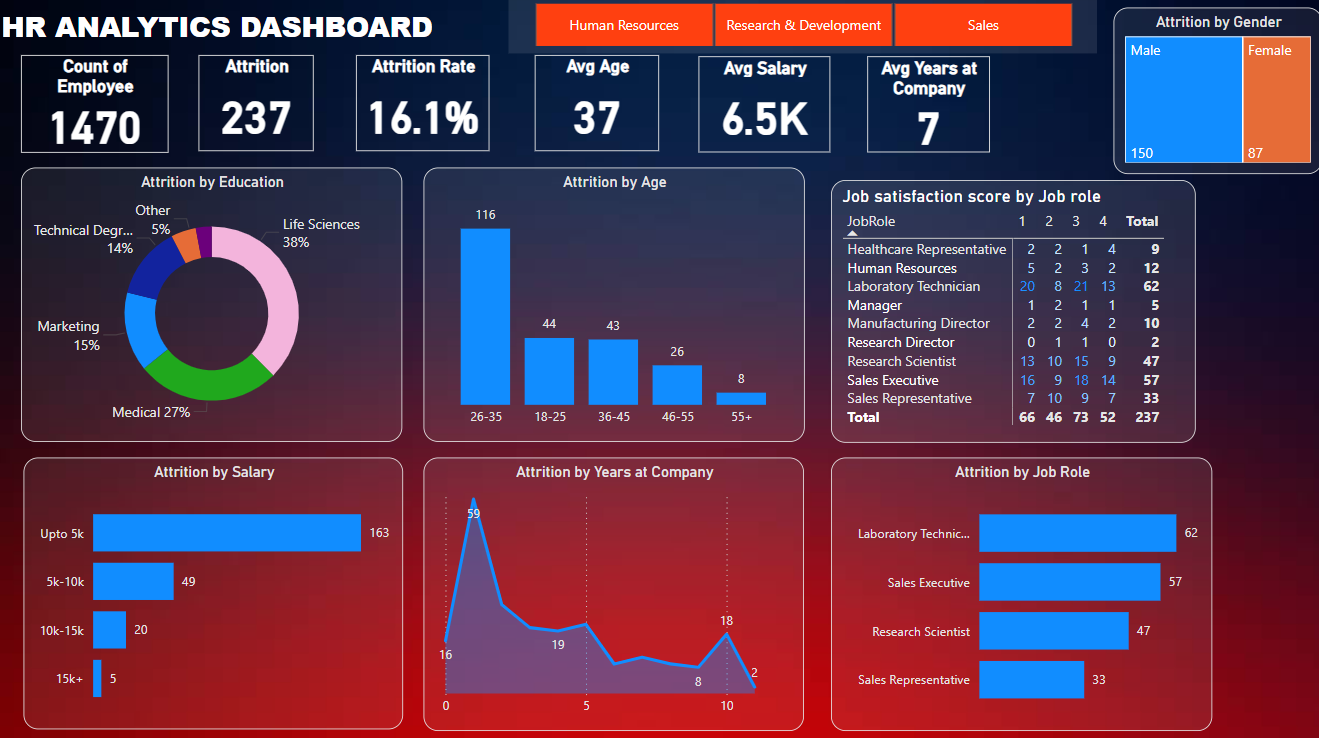

This screenshot's page, from the dashboard's own definition file:
{"tool":"powerbi","page":{"name":"Page 1","canvas":[1280,720],"ordinal":0},"visuals":[{"type":"card","title":"Count of Employee","fields":{"Values":["CountNonNull(HR_Analytics.EmpID)"]},"box":[24.6,58,142,94.2],"z":0},{"type":"card","title":"Attrition","fields":{"Values":["Sum(HR_Analytics.Attrition Count)"]},"box":[195.7,58,111.6,92.8],"z":1000},{"type":"card","title":"Attrition Rate","fields":{"Values":["HR_Analytics.AttritionNRate"]},"box":[347.8,58,129,92.8],"z":2000},{"type":"card","title":"Avg Age","fields":{"Values":["Avg(HR_Analytics.Age)"]},"box":[520.3,58,120.3,92.8],"z":3000},{"type":"card","title":"Avg Years at Company","fields":{"Values":["Avg(HR_Analytics.YearsAtCompany)"]},"box":[840.9,59.1,118.2,92.9],"z":4000},{"type":"card","title":"Avg Salary","fields":{"Values":["Avg(HR_Analytics.MonthlyIncome)"]},"box":[678.3,59.4,127.5,92.8],"z":5000},{"type":"donutChart","title":"Attrition by Education","fields":{"Category":["HR_Analytics.EducationField"],"Y":["Sum(HR_Analytics.Attrition Count)"]},"box":[24.7,166,367.8,264.8],"z":6000},{"type":"columnChart","title":"Attrition by Age","fields":{"Category":["HR_Analytics.AgeGroup"],"Y":["Sum(HR_Analytics.Attrition Count)"]},"box":[413,166,367.8,264.8],"z":7000},{"type":"pivotTable","title":"Job satisfaction score by Job role","fields":{"Rows":["HR_Analytics.JobRole"],"Values":["Sum(HR_Analytics.Attrition Count)"],"Columns":["HR_Analytics.JobSatisfaction"]},"box":[805.8,178.3,352.2,253.6],"z":8000},{"type":"barChart","title":"Attrition by Salary","fields":{"Category":["HR_Analytics.SalarySlab"],"Y":["Sum(HR_Analytics.Attrition Count)"]},"box":[26.1,446.4,366.7,262.3],"z":9000},{"type":"barChart","title":"Attrition by Job Role","fields":{"Category":["HR_Analytics.JobRole"],"Y":["Sum(HR_Analytics.Attrition Count)"]},"box":[805.8,446.4,368.1,263.8],"z":10000},{"type":"areaChart","title":"Attrition by Years at Company","fields":{"Category":["HR_Analytics.YearsAtCompany"],"Y":["Sum(HR_Analytics.Attrition Count)"]},"box":[413,446.8,367.5,263.6],"z":11000},{"type":"treemap","title":"Attrition by Gender","fields":{"Values":["Sum(HR_Analytics.Attrition Count)"],"Group":["HR_Analytics.Gender"]},"box":[1078.3,11.6,201.4,160.9],"z":12000},{"type":"slicer","fields":{"Values":["HR_Analytics.Department"]},"box":[494.2,1.4,568.1,55.1],"z":13000},{"type":"textbox","box":[0,5.8,443.5,47.8],"z":14000}]}

Visuals, with their boxes in screenshot pixels (x1, y1, x2, y2), scaled from the page's 1280x720 canvas onto the 1319x738 screenshot:
"Count of Employee" card: (x1=25, y1=59, x2=172, y2=156)
"Attrition" card: (x1=202, y1=59, x2=317, y2=155)
"Attrition Rate" card: (x1=358, y1=59, x2=491, y2=155)
"Avg Age" card: (x1=536, y1=59, x2=660, y2=155)
"Avg Years at Company" card: (x1=867, y1=61, x2=988, y2=156)
"Avg Salary" card: (x1=699, y1=61, x2=830, y2=156)
"Attrition by Education" donutChart: (x1=25, y1=170, x2=404, y2=442)
"Attrition by Age" columnChart: (x1=426, y1=170, x2=805, y2=442)
"Job satisfaction score by Job role" pivotTable: (x1=830, y1=183, x2=1193, y2=443)
"Attrition by Salary" barChart: (x1=27, y1=458, x2=405, y2=726)
"Attrition by Job Role" barChart: (x1=830, y1=458, x2=1210, y2=728)
"Attrition by Years at Company" areaChart: (x1=426, y1=458, x2=804, y2=728)
"Attrition by Gender" treemap: (x1=1111, y1=12, x2=1318, y2=177)
slicer - HR_Analytics.Department: (x1=509, y1=1, x2=1095, y2=58)
textbox: (x1=0, y1=6, x2=457, y2=55)
